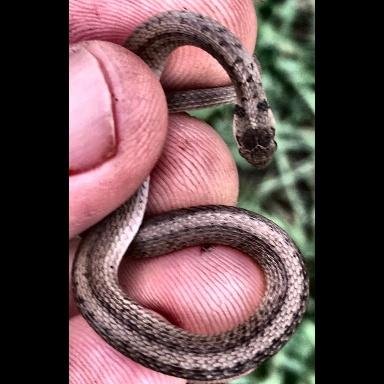snake: (74, 178, 308, 384), (125, 13, 277, 169)
